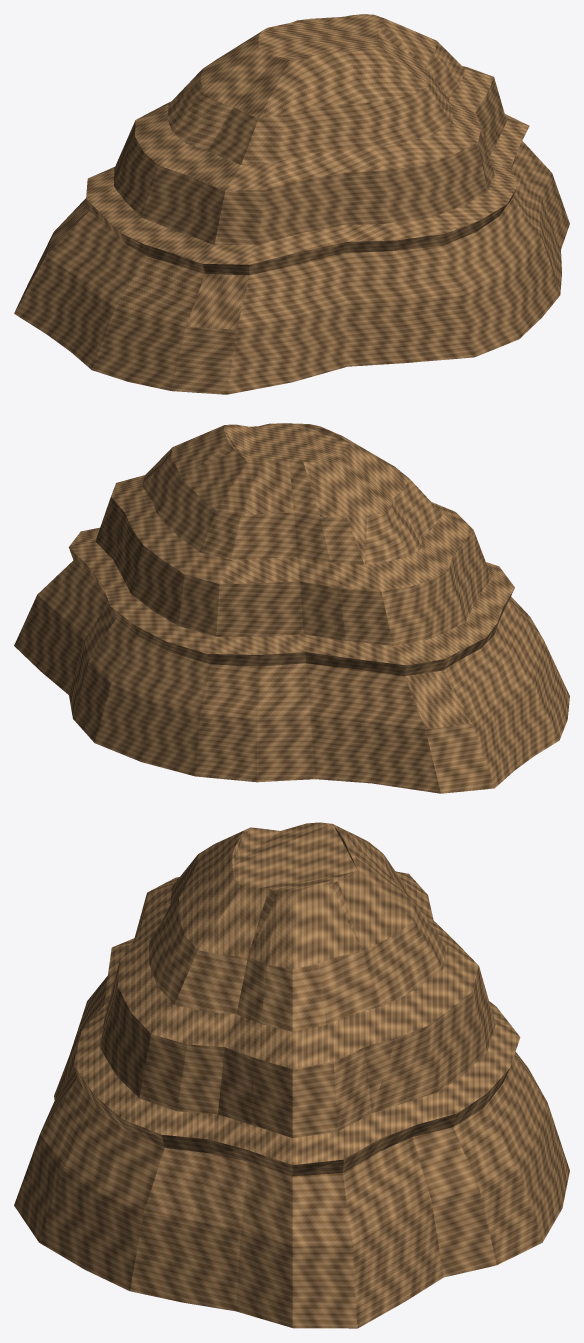
Rendered from 2032_eastern_sandstone_ridge.dae.
3 renders of one model, top to bottom at view 1: azimuth 30°, elevation 25°; view 2: azimuth 150°, elevation 25°; view 3: azimuth 270°, elevation 25°, orthographic. The views are drawn at different scales.
Visible parts, largest first — view 1: Node; view 2: Node; view 3: Node.
Boxes of the visible parts, x1,y1,x2,y2 form: Node: (14,14,569,394); Node: (14,423,569,793); Node: (14,822,569,1328).
Size of the model in its own units: 22.53 by 16.67 by 10.95.
Materials: 1 (1 with a texture image).
